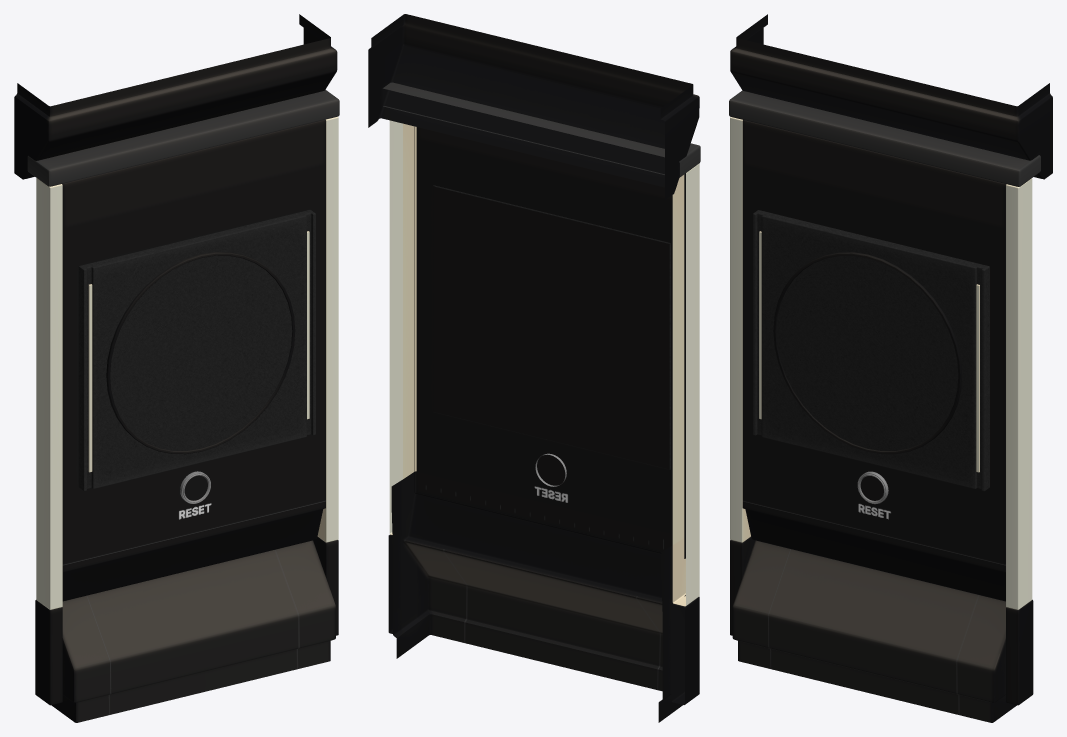
File: DartGame_Machine.fbx
3 renders of one model, left to right at view 1: azimuth 30°, elevation 25°; view 2: azimuth 150°, elevation 25°; view 3: azimuth 330°, elevation 25°, orthographic. The views are drawn at different scales.
Visible parts, largest first — view 1: DartGame_Machine; view 2: DartGame_Machine; view 3: DartGame_Machine.
Boxes of the visible parts, left/top/right/bottom form: DartGame_Machine: left=14, top=14, right=339, bottom=722; DartGame_Machine: left=368, top=14, right=700, bottom=722; DartGame_Machine: left=729, top=14, right=1052, bottom=722.
Size of the model in its own units: 145 by 290 by 39.9.
